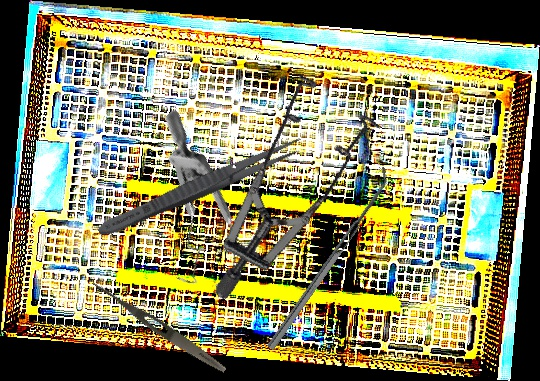Dressing Forceps: (94, 131, 307, 243), (88, 277, 229, 377)
Spatula Surgical: (260, 166, 396, 351)
Speculum: (144, 52, 418, 302), (90, 108, 292, 310)
